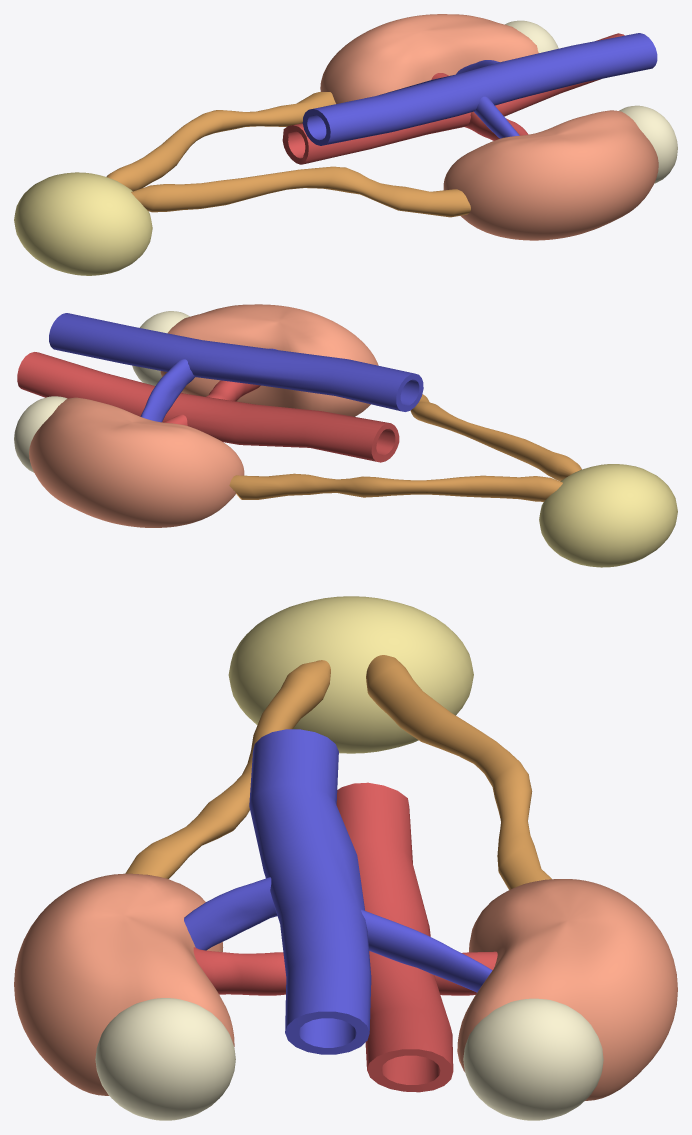
The model's file is kidneys.fbx.
3 views of the same model, one above another, from view 1: azimuth 30°, elevation 25°; view 2: azimuth 150°, elevation 25°; view 3: azimuth 270°, elevation 25° (orthographic). The views are drawn at different scales.
Parts seen in each view (by area): view 1: Rim02, veia, Rim, Sphere01, Donut06, Donut03, Tube01, Sphere02, Donut04, Sphere03, Donut05; view 2: Rim, veia, Tube01, Sphere01, Rim02, Donut03, Donut06, Donut01, Sphere03, Sphere02, Donut05; view 3: veia, Rim, Rim02, Sphere01, Tube01, Sphere02, Sphere03, Donut03, Donut06, Donut01, Donut04, Donut05 (+1 smaller).
Boxes of the visible parts, x1,y1,x2,y2 form: Rim02: [443, 110, 658, 240]; veia: [302, 33, 657, 145]; Rim: [320, 14, 538, 103]; Sphere01: [14, 172, 152, 275]; Donut06: [131, 166, 470, 217]; Donut03: [106, 92, 335, 191]; Tube01: [282, 33, 624, 164]; Sphere02: [619, 105, 677, 183]; Donut04: [474, 96, 519, 138]; Sphere03: [505, 20, 558, 52]; Donut05: [465, 111, 528, 140]; Rim: [29, 397, 244, 527]; veia: [49, 313, 423, 411]; Tube01: [17, 352, 399, 462]; Sphere01: [539, 464, 677, 567]; Rim02: [160, 304, 378, 416]; Donut03: [229, 473, 562, 501]; Donut06: [410, 394, 581, 481]; Donut01: [140, 359, 194, 422]; Sphere03: [14, 396, 67, 472]; Sphere02: [132, 311, 189, 385]; Donut05: [206, 380, 260, 401]; veia: [249, 729, 371, 1054]; Rim: [457, 879, 677, 1100]; Rim02: [14, 873, 234, 1095]; Sphere01: [228, 596, 473, 753]; Tube01: [336, 782, 453, 1092]; Sphere02: [95, 998, 235, 1120]; Sphere03: [463, 998, 603, 1120]; Donut03: [366, 655, 551, 889]; Donut06: [125, 660, 330, 878]; Donut01: [361, 909, 492, 992]; Donut04: [184, 877, 277, 950]; Donut05: [193, 947, 286, 995].
Bounding box in the file's own units: 10000 × 1878 × 5874.
